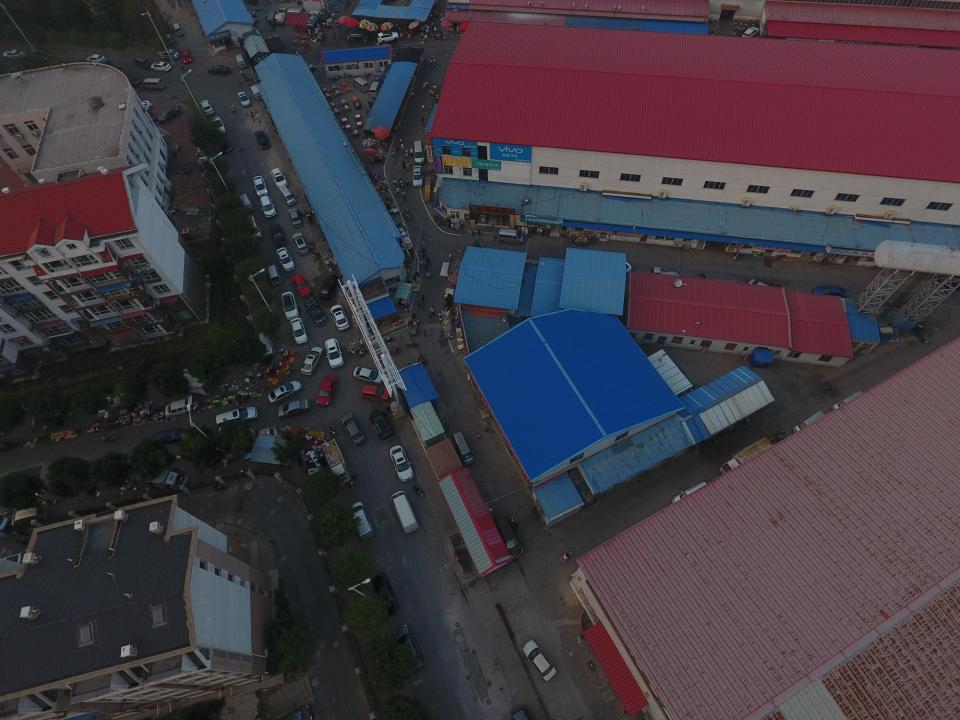car: (522, 640, 558, 680), (370, 573, 400, 619), (394, 626, 424, 669), (495, 516, 525, 558), (390, 444, 414, 482), (350, 500, 372, 539), (266, 379, 302, 401), (268, 704, 317, 720), (313, 374, 338, 405), (808, 284, 852, 301), (370, 410, 394, 441), (355, 362, 384, 387), (344, 412, 364, 446), (301, 294, 324, 323), (323, 336, 343, 368), (301, 346, 322, 373), (329, 302, 349, 330), (288, 316, 307, 345), (215, 411, 256, 424), (154, 105, 181, 123), (280, 400, 310, 416), (277, 246, 296, 270), (282, 288, 297, 318), (269, 222, 286, 246), (277, 182, 297, 202), (360, 388, 388, 402), (293, 232, 309, 256), (294, 272, 310, 295), (132, 98, 152, 116), (259, 194, 275, 216), (211, 114, 225, 136), (251, 173, 265, 194), (84, 52, 104, 66), (270, 168, 285, 185), (150, 58, 171, 70), (258, 128, 270, 148), (412, 167, 422, 187), (200, 99, 212, 115), (210, 63, 231, 72), (289, 209, 299, 227), (237, 91, 250, 104), (3, 48, 24, 55), (179, 50, 189, 62)
truck: (720, 436, 774, 477), (393, 489, 418, 536), (451, 431, 475, 465), (652, 264, 680, 280), (745, 278, 773, 292), (414, 138, 424, 162)
van: (670, 482, 714, 507), (832, 390, 863, 414), (791, 411, 824, 432), (156, 426, 190, 443), (494, 226, 524, 243), (321, 276, 339, 302), (194, 137, 212, 163), (154, 46, 180, 61), (236, 192, 255, 212), (245, 215, 262, 237), (234, 52, 249, 70), (265, 266, 279, 284), (141, 78, 161, 90), (249, 84, 262, 102), (171, 22, 186, 36), (132, 55, 150, 66)
